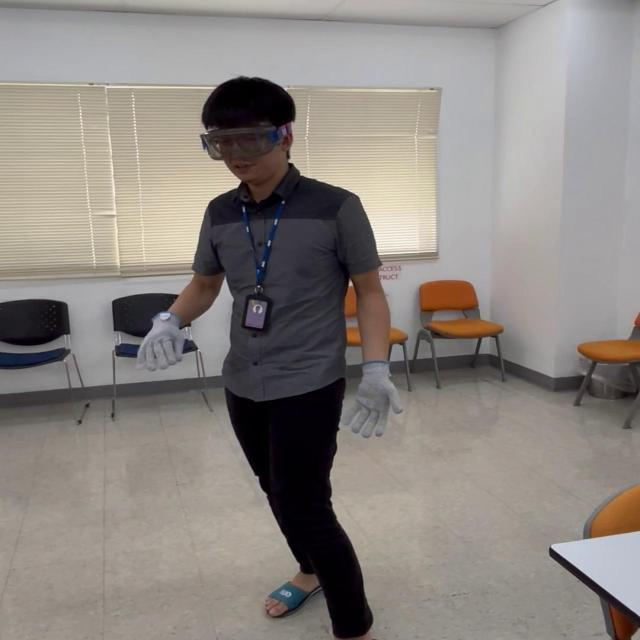gloved_hand: (343, 362, 400, 438), (142, 312, 200, 370)
